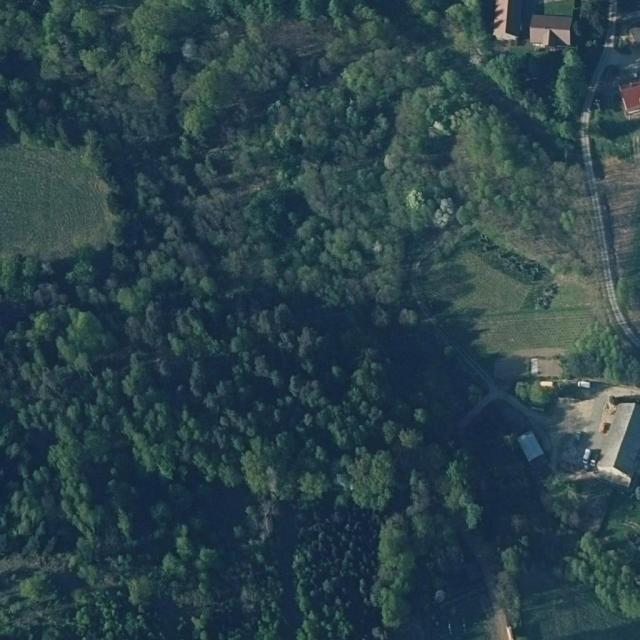building: (592, 402, 640, 486), (528, 15, 573, 48), (492, 0, 518, 42), (515, 429, 545, 463)
greenland: (408, 241, 603, 375), (545, 475, 640, 621), (0, 145, 113, 259), (559, 319, 640, 386), (490, 534, 531, 626), (569, 0, 609, 63), (590, 110, 640, 160), (512, 375, 558, 409)
unmetalled_road: (448, 348, 531, 429)
